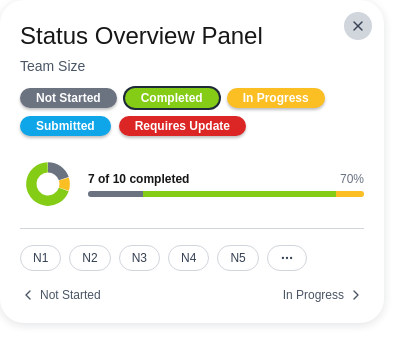
StatusOverviewPanel › switches status when a status chip is clicked
# The chip comes before the pager button in the DOM
Click the 1st button "Not Started": (68, 98) left=20, top=88, right=117, bottom=108
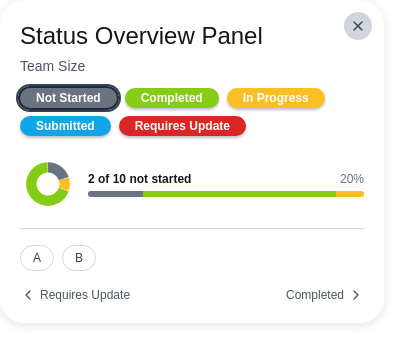
expect the text "A" is shown: met, box left=20, top=245, right=54, bottom=271
expect the text "N1" is gone: met
